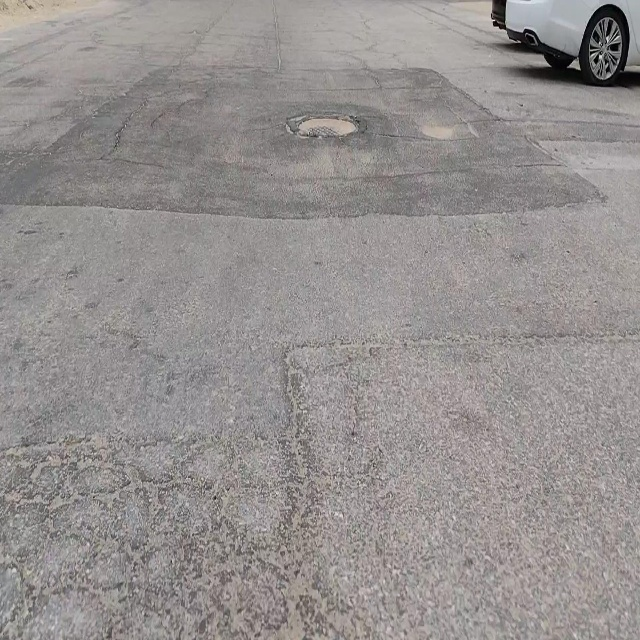pothole: (292, 112, 366, 141)
